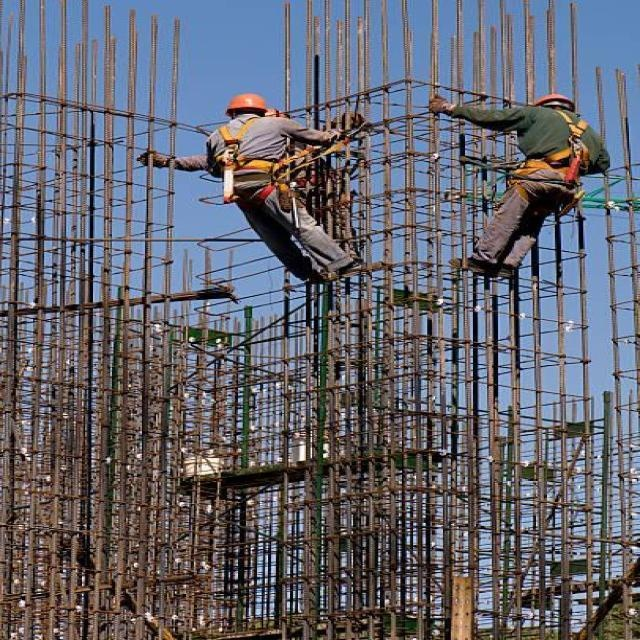Arnes_seguridad: (510, 110, 597, 210), (212, 116, 288, 211)
